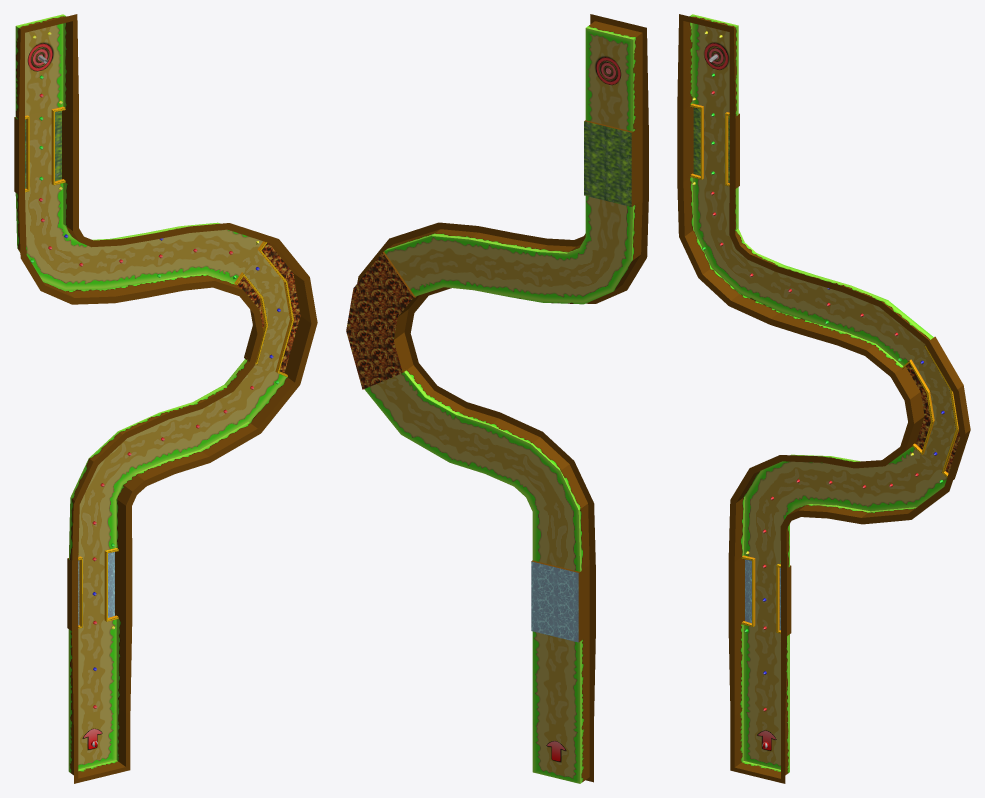
3 renders of one model, left to right at view 1: azimuth 30°, elevation 25°; view 2: azimuth 150°, elevation 25°; view 3: azimuth 330°, elevation 25°, orthographic. The views are drawn at different scales.
Visible parts, largest first — view 1: maze01, maze03, maze00, maze02, maze_end, maze_start, maze_main.003, lava, bridge2, bridge3, bridge1, toxic (+1 smaller); view 2: maze01, maze03, maze00, maze02, maze_end, lava, toxic, maze_start, water, maze_main.003; view 3: maze03, maze01, maze00, maze02, maze_end, maze_start, maze_main.003, bridge2, lava, bridge3, toxic, bridge1 (+1 smaller).
Part boxes in pixels (x1=…): maze01: x1=70, y1=316, x2=317, y2=505; maze03: x1=14, y1=108, x2=154, y2=304; maze00: x1=67, y1=498, x2=132, y2=725; maze02: x1=139, y1=222, x2=317, y2=333; maze_end: x1=15, y1=14, x2=78, y2=126; maze_start: x1=68, y1=706, x2=130, y2=783; maze_main.003: x1=123, y1=317, x2=317, y2=471; lava: x1=237, y1=243, x2=300, y2=373; bridge2: x1=234, y1=241, x2=293, y2=376; bridge3: x1=25, y1=106, x2=65, y2=192; bridge1: x1=78, y1=547, x2=118, y2=628; toxic: x1=25, y1=111, x2=61, y2=188; maze01: x1=364, y1=332, x2=593, y2=511; maze03: x1=504, y1=120, x2=648, y2=304; maze00: x1=531, y1=503, x2=595, y2=730; maze02: x1=357, y1=222, x2=513, y2=339; maze_end: x1=585, y1=14, x2=648, y2=131; lava: x1=346, y1=252, x2=413, y2=389; toxic: x1=584, y1=121, x2=631, y2=206; maze_start: x1=532, y1=719, x2=593, y2=783; water: x1=531, y1=561, x2=578, y2=642; maze_main.003: x1=365, y1=366, x2=541, y2=484; maze03: x1=677, y1=105, x2=817, y2=334; maze01: x1=730, y1=416, x2=970, y2=528; maze00: x1=728, y1=496, x2=791, y2=727; maze02: x1=803, y1=275, x2=970, y2=439; maze_end: x1=677, y1=14, x2=738, y2=122; maze_start: x1=730, y1=709, x2=789, y2=783; maze_main.003: x1=781, y1=421, x2=969, y2=505; bridge2: x1=902, y1=345, x2=958, y2=477; lava: x1=906, y1=363, x2=960, y2=472; bridge3: x1=690, y1=103, x2=729, y2=186; toxic: x1=693, y1=107, x2=729, y2=182; bridge1: x1=741, y1=555, x2=780, y2=633.
Bounding box in the file's own units: 75.93 × 187 × 4.76.
13 materials, 12 textured.
